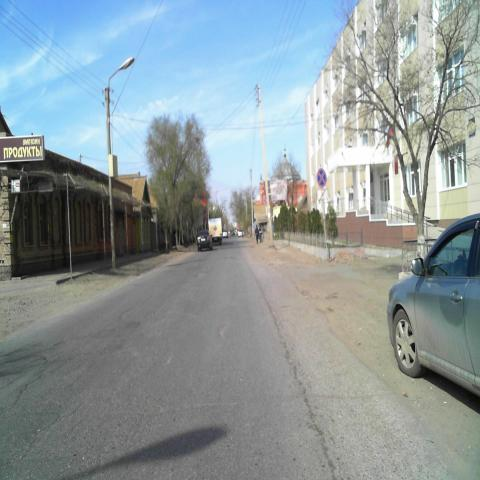8_18: (317, 189, 328, 200)
